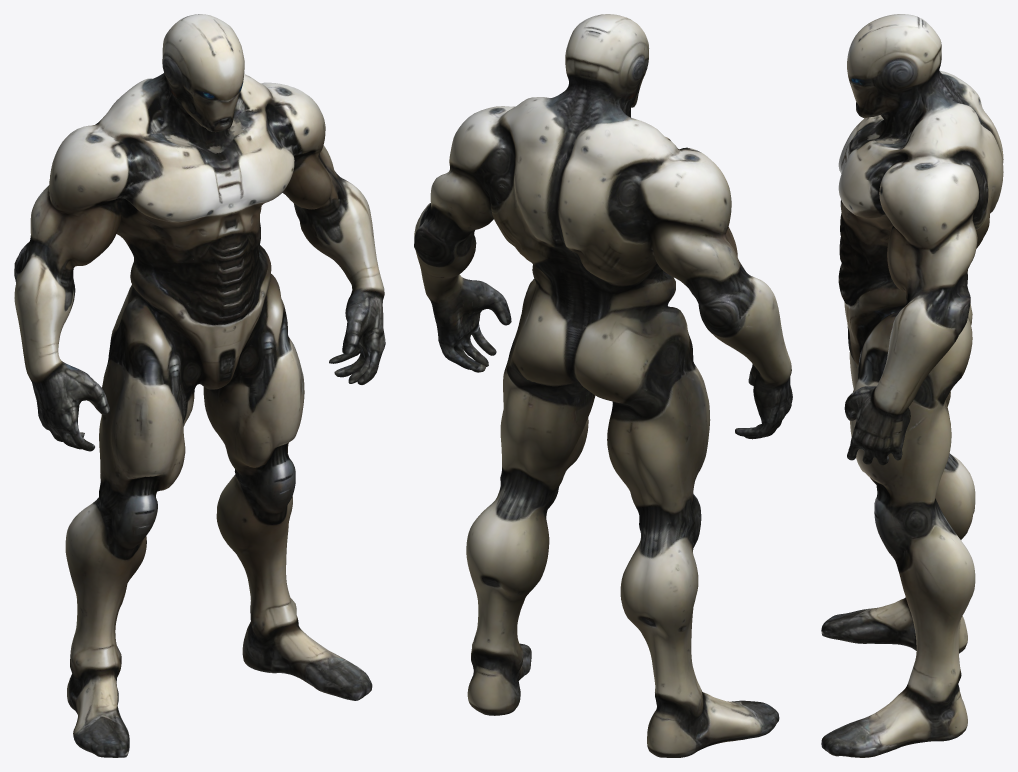
The model's file is coolmuscle.glb.
3 views of the same model, side by side, from view 1: azimuth 30°, elevation 25°; view 2: azimuth 150°, elevation 25°; view 3: azimuth 270°, elevation 25° (orthographic). The views are drawn at different scales.
Size of the model in its own units: 1.08 by 2 by 0.4899.
Materials: 1 (1 with a texture image).
